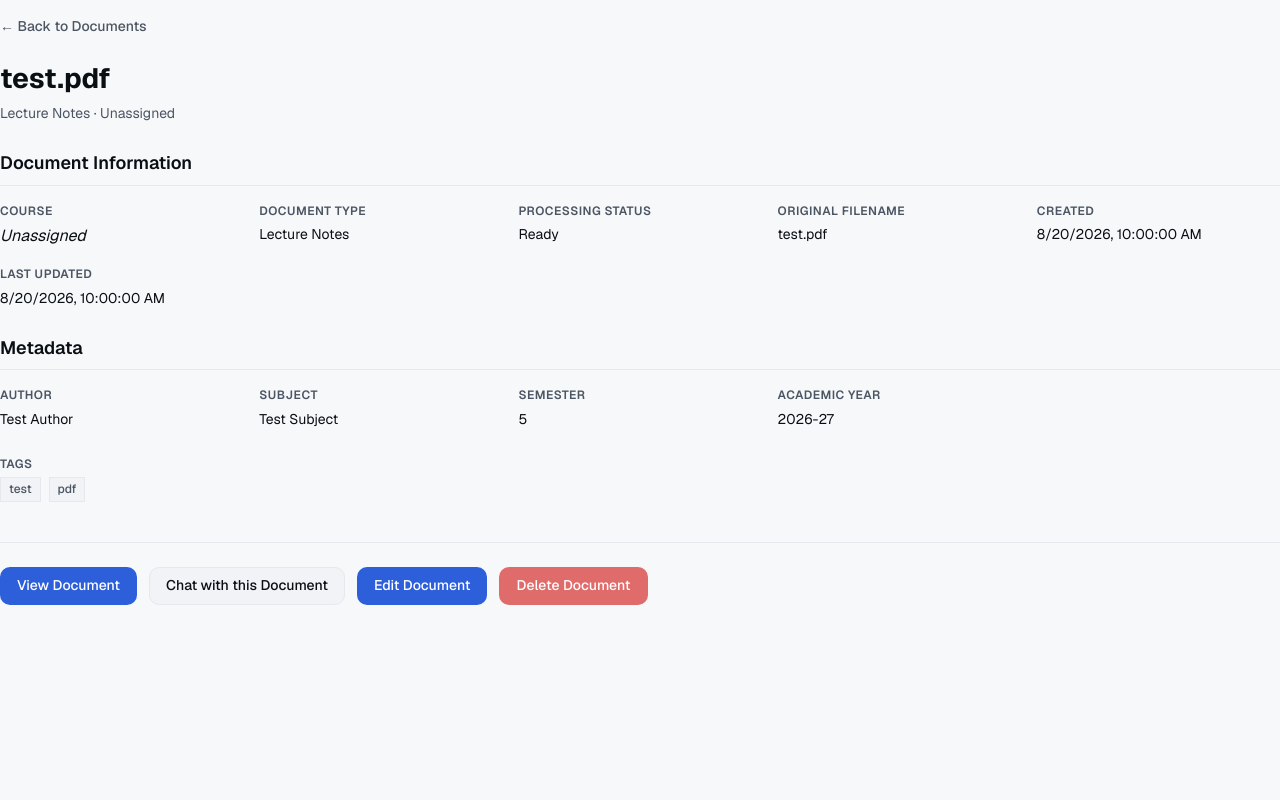
it: DocumentDetailPanel › opens the edit dialog when Edit is clicked and handles update
This screenshot has width=1280, height=800.
Click the button "Edit Document": (422, 586) x1=357 y1=567 x2=487 y2=605
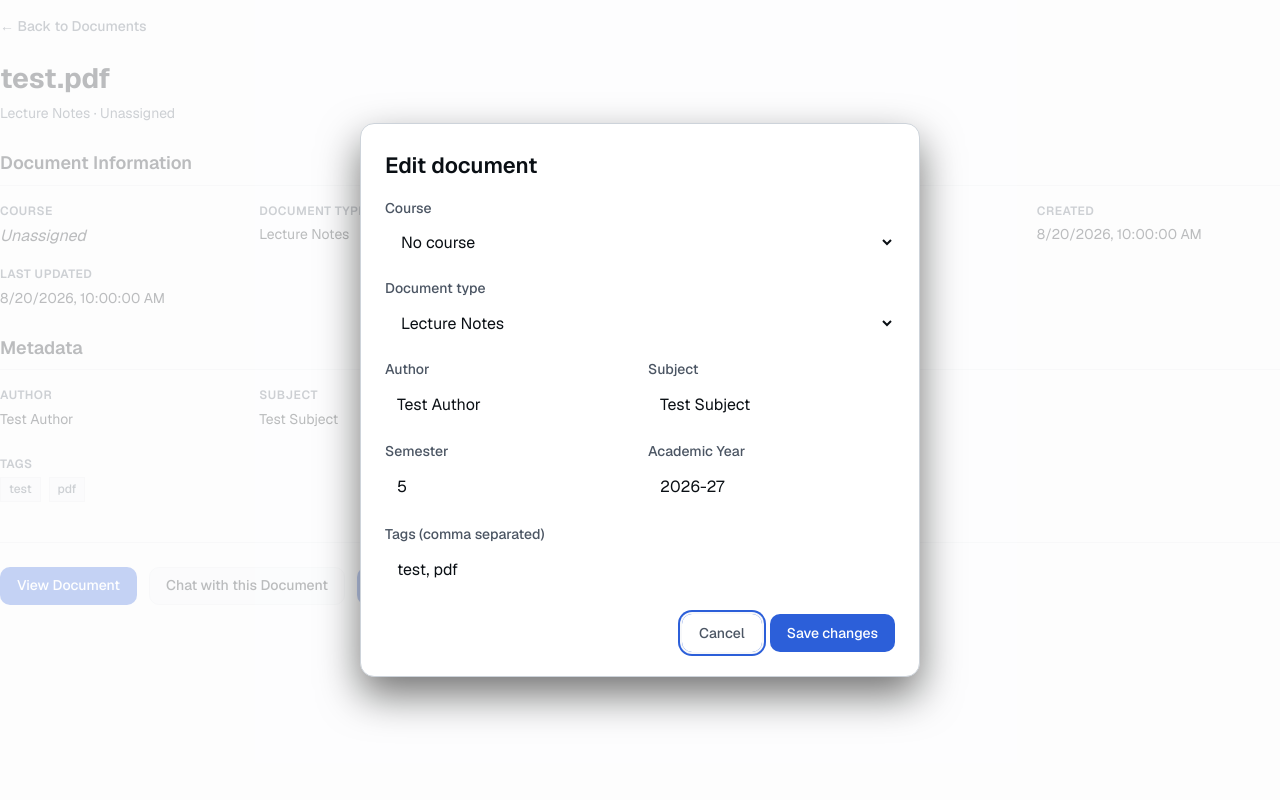
Expected: the dialog with test id "document-edit-dialog" is shown, x1=360 y1=122 x2=920 y2=677
Click the button "Save changes": (832, 634) x1=770 y1=614 x2=895 y2=652
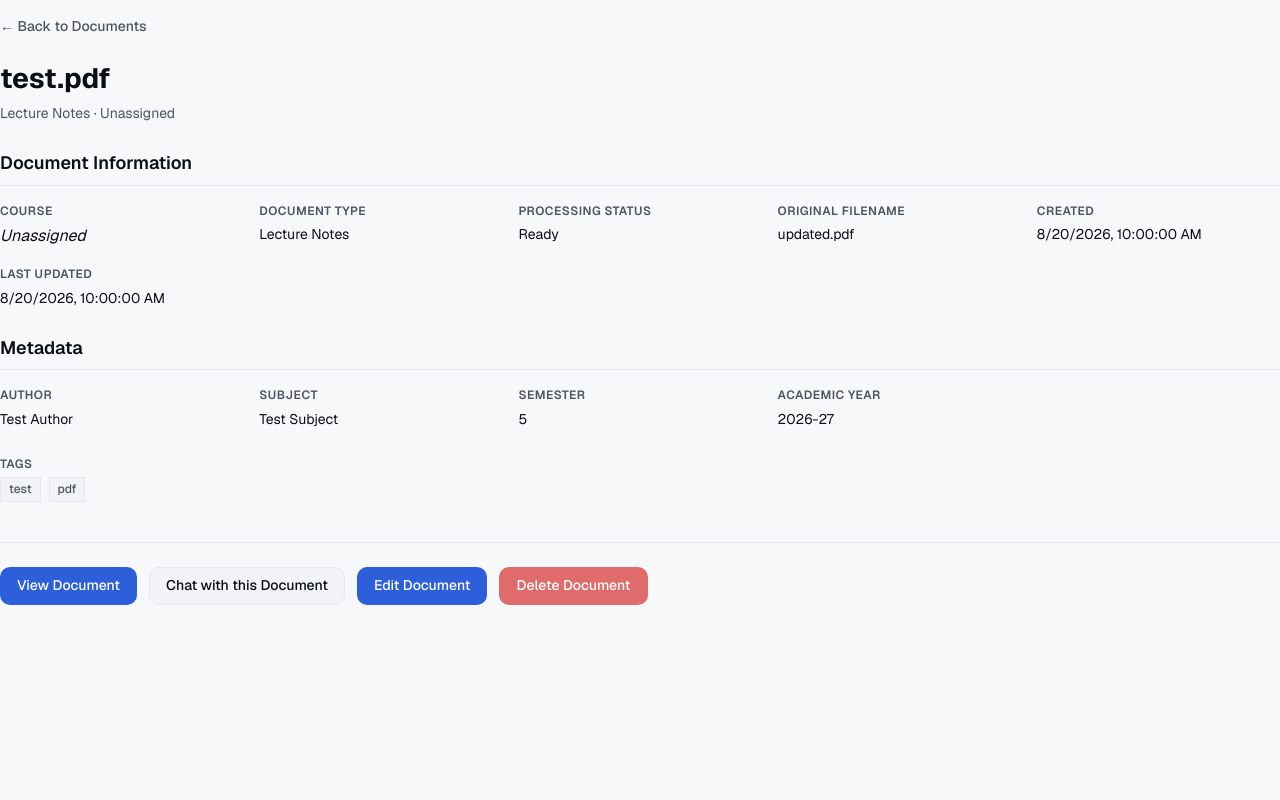
Expected: the dialog with test id "document-edit-dialog" is gone
